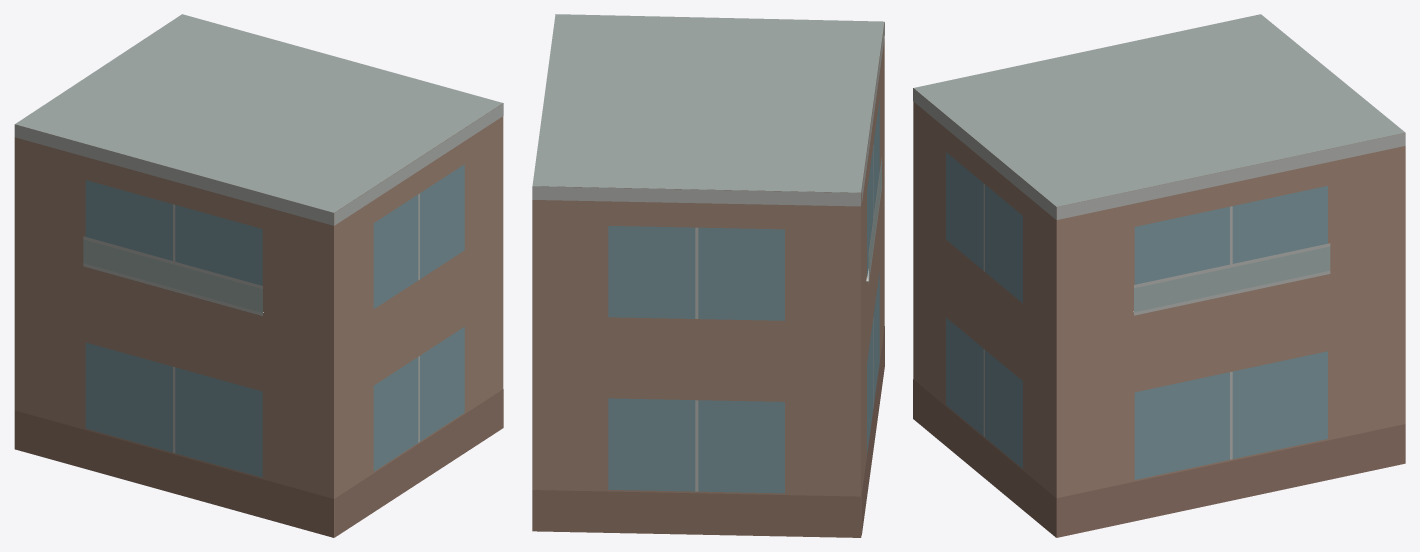
Rendered from survey-upis-32614792.glb.
3 views of the same model, side by side, from view 1: azimuth 30°, elevation 25°; view 2: azimuth 150°, elevation 25°; view 3: azimuth 270°, elevation 25° (orthographic). The views are drawn at different scales.
Visible parts, largest first — view 1: survey-upis-32614792.tmp; view 2: survey-upis-32614792.tmp; view 3: survey-upis-32614792.tmp.
Part boxes in pixels (box(x1,y1,x2,y2)): survey-upis-32614792.tmp: box(14, 14, 503, 537); survey-upis-32614792.tmp: box(532, 14, 884, 537); survey-upis-32614792.tmp: box(913, 14, 1405, 537).
Size of the model in its own units: 7.64 by 6.1 by 8.24.
